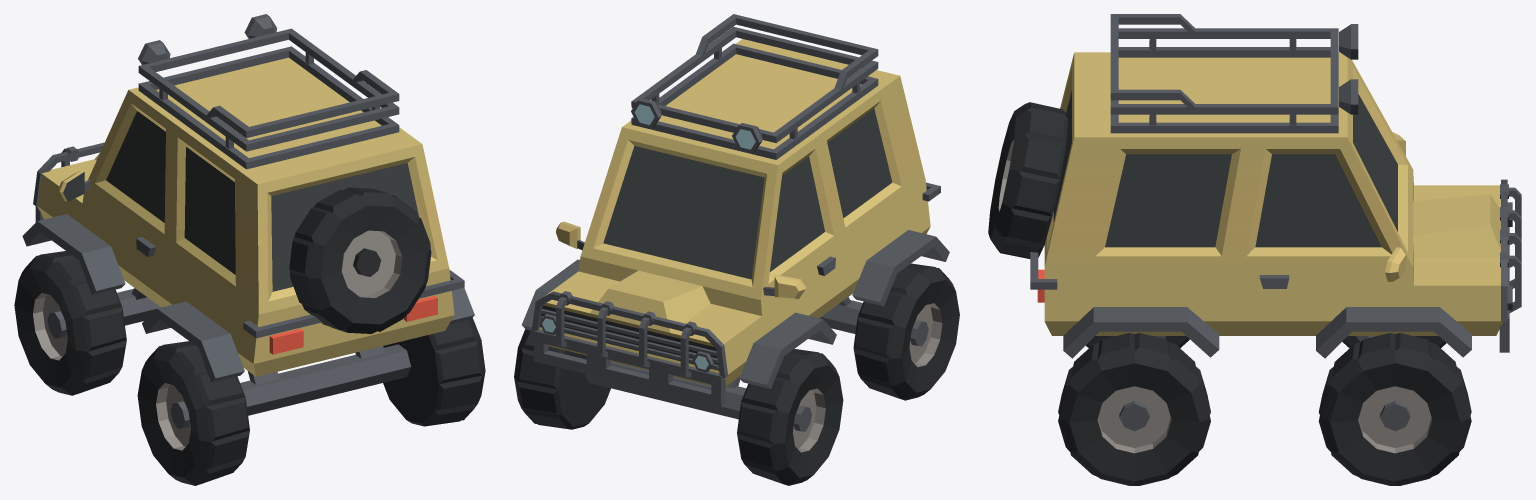
Rendered from Car_01.FBX.
3 renders of one model, left to right at view 1: azimuth 30°, elevation 25°; view 2: azimuth 150°, elevation 25°; view 3: azimuth 270°, elevation 25°, orthographic. The views are drawn at different scales.
Parts seen in each view (by area): view 1: che_01, che_01_lunzi_FL, che_01_lunzi_BL, che_01_lunzi_BR; view 2: che_01, che_01_lunzi_BL, che_01_lunzi_FL, che_01_lunzi_FR; view 3: che_01, che_01_lunzi_BR, che_01_lunzi_FR.
Boxes of the visible parts, x1,y1,x2,y2 form: che_01: [22, 14, 474, 415]; che_01_lunzi_FL: [14, 251, 126, 395]; che_01_lunzi_BL: [137, 341, 249, 485]; che_01_lunzi_BR: [383, 318, 485, 426]; che_01: [522, 14, 949, 419]; che_01_lunzi_BL: [853, 263, 959, 400]; che_01_lunzi_FL: [737, 349, 843, 485]; che_01_lunzi_FR: [514, 329, 610, 429]; che_01: [988, 14, 1521, 358]; che_01_lunzi_BR: [1058, 333, 1210, 485]; che_01_lunzi_FR: [1318, 333, 1471, 485].
Size of the model in its own units: 198 by 227 by 302.
